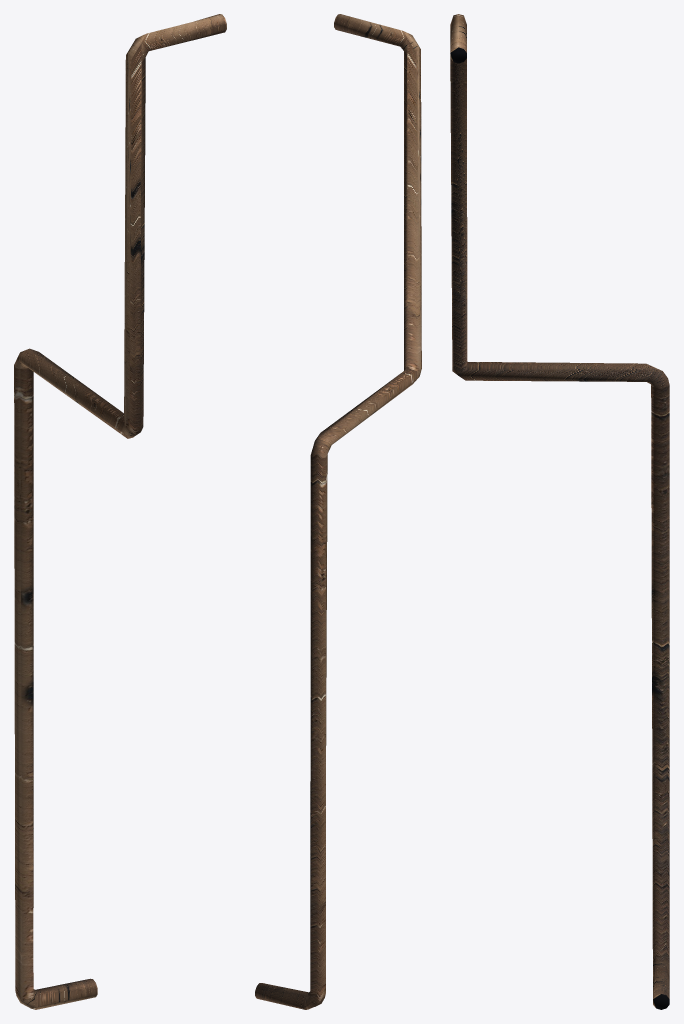
The model's file is wallPipe4_100.fbx.
3 renders of one model, left to right at view 1: azimuth 30°, elevation 25°; view 2: azimuth 150°, elevation 25°; view 3: azimuth 270°, elevation 25°, orthographic. The views are drawn at different scales.
Parts seen in each view (by area): view 1: pipeC200; view 2: pipeC200; view 3: pipeC200.
Boxes of the visible parts, x1,y1,x2,y2 form: pipeC200: (14,14,226,1009); pipeC200: (255,14,421,1009); pipeC200: (450,14,669,1009).
Bounding box in the file's own units: 0.5273 × 5.53 × 1.13.
